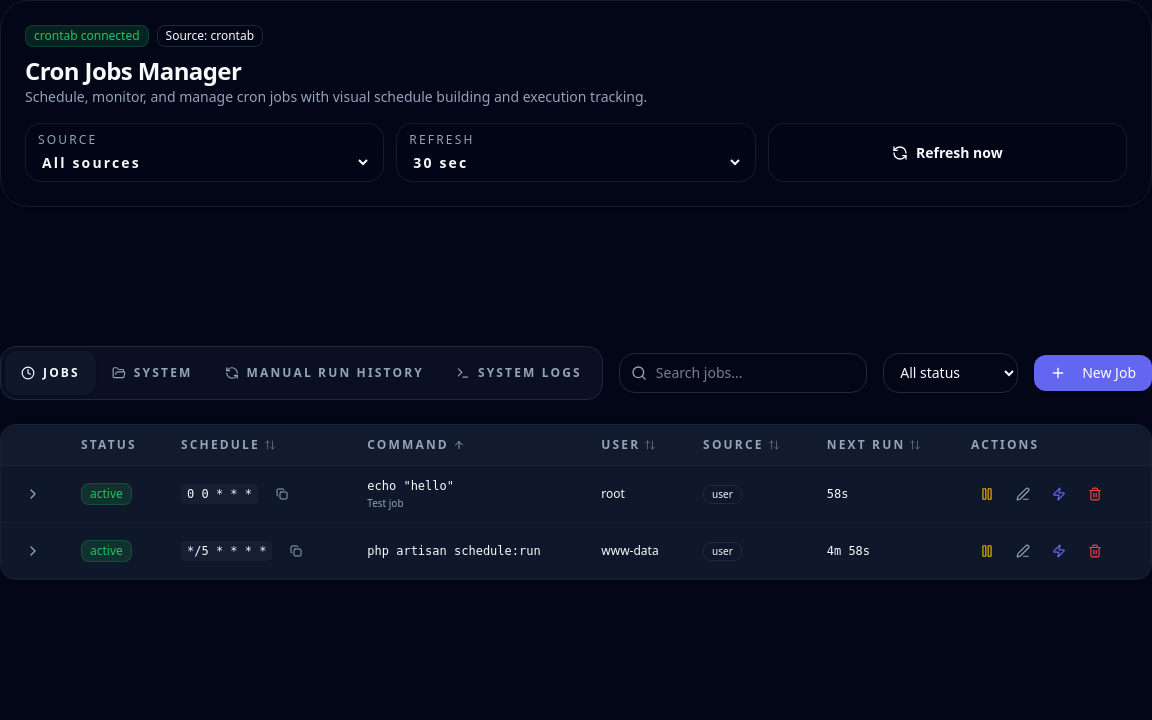
CronsPage › opens add modal
Click the button "New Job": (1093, 372) [1034,354,1151,390]
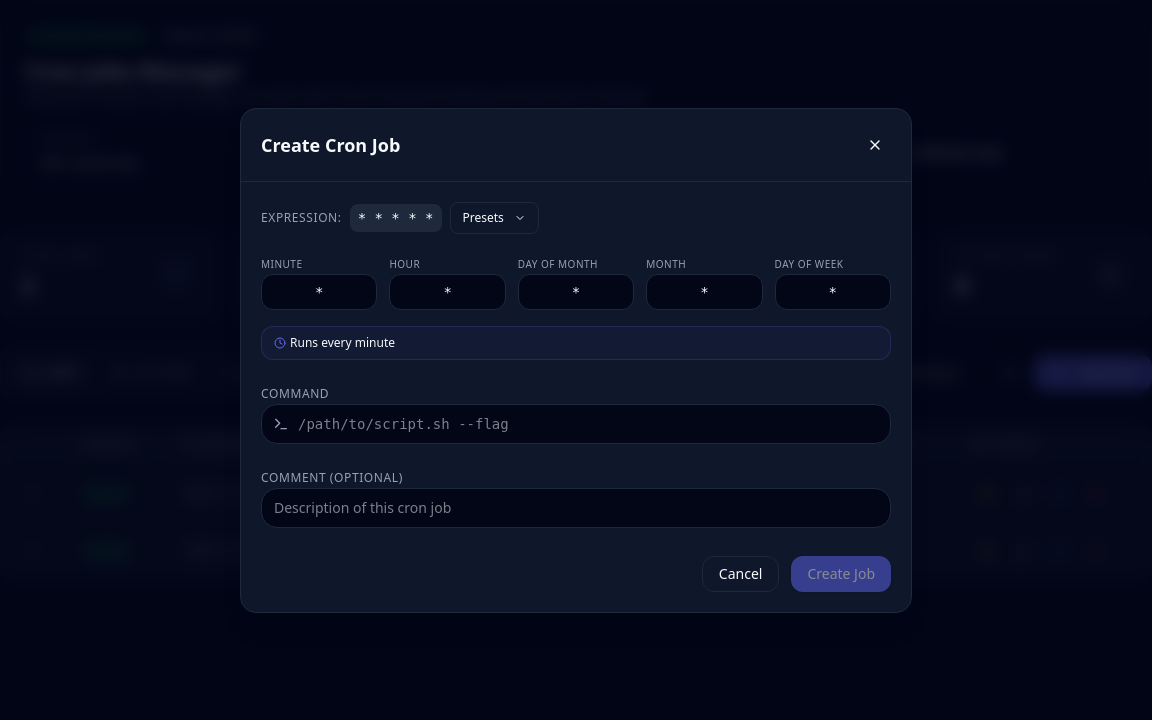
Now the heading "Create Cron Job" is shown, box [261,130,400,158]
